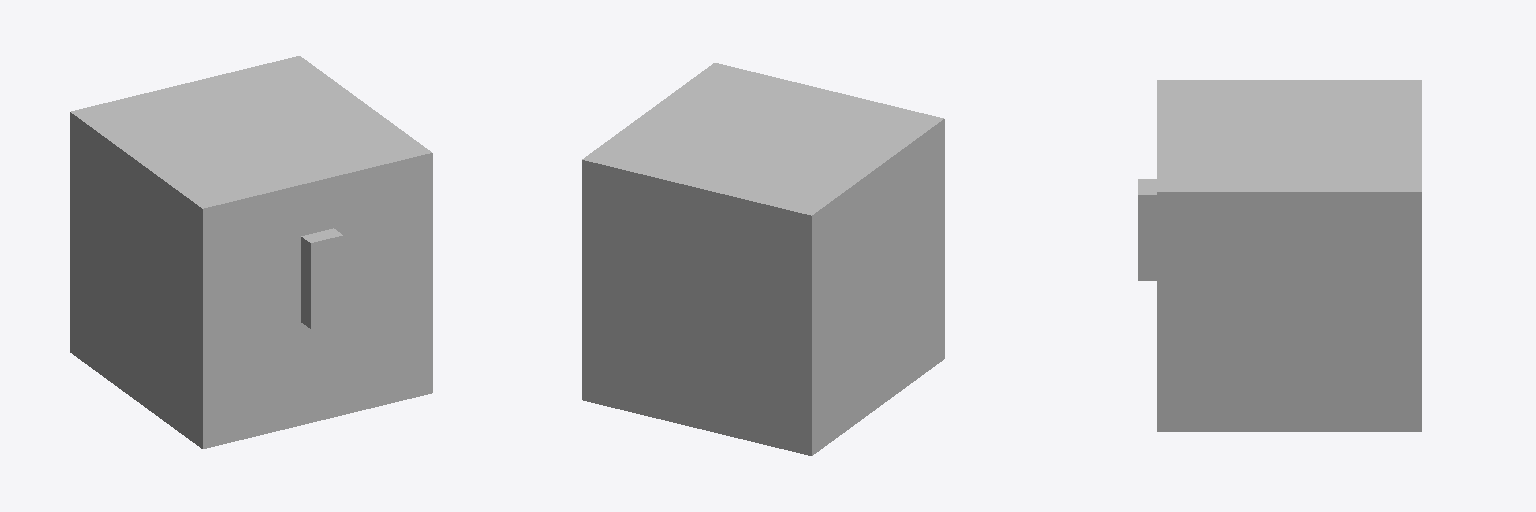
Rendered from Chest.obj.
The picture shows the model from 3 angles: view 1: azimuth 30°, elevation 25°; view 2: azimuth 150°, elevation 25°; view 3: azimuth 270°, elevation 25°; orthographic projection.
Visible parts, largest first — view 1: object 1; view 2: object 1; view 3: object 1.
Boxes of the visible parts, box(x1,y1,x2,y2) form: object 1: box(70, 56, 432, 448); object 1: box(582, 63, 944, 455); object 1: box(1138, 80, 1421, 431).
Size of the model in its own units: 1.4 by 1.4 by 1.5.